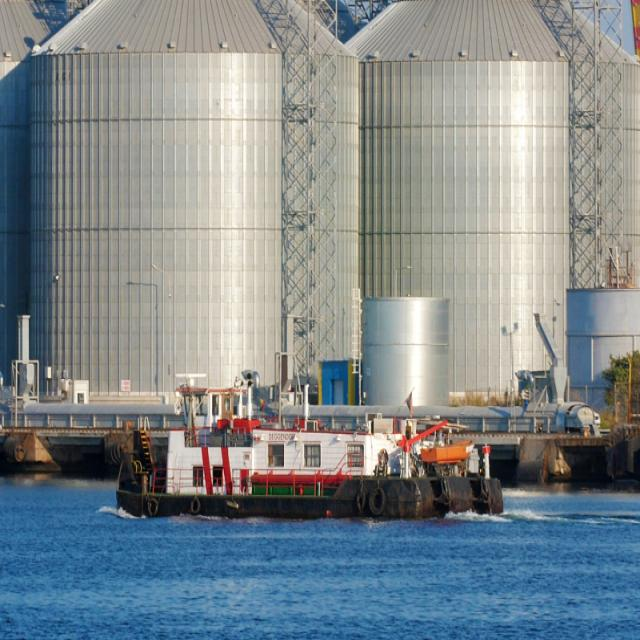tugboat: (113, 371, 510, 537)
